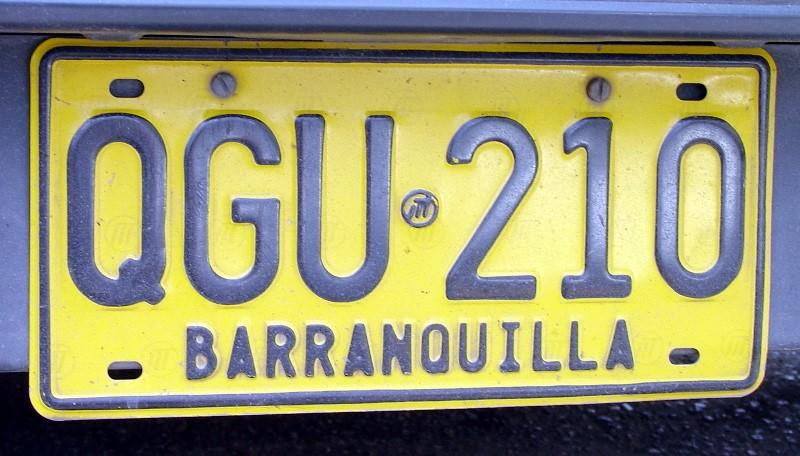placas: (20, 21, 783, 428)
